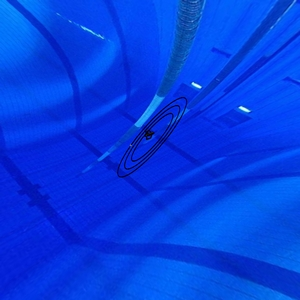circle: (116, 94, 191, 186)
submarine: (143, 127, 155, 143)
